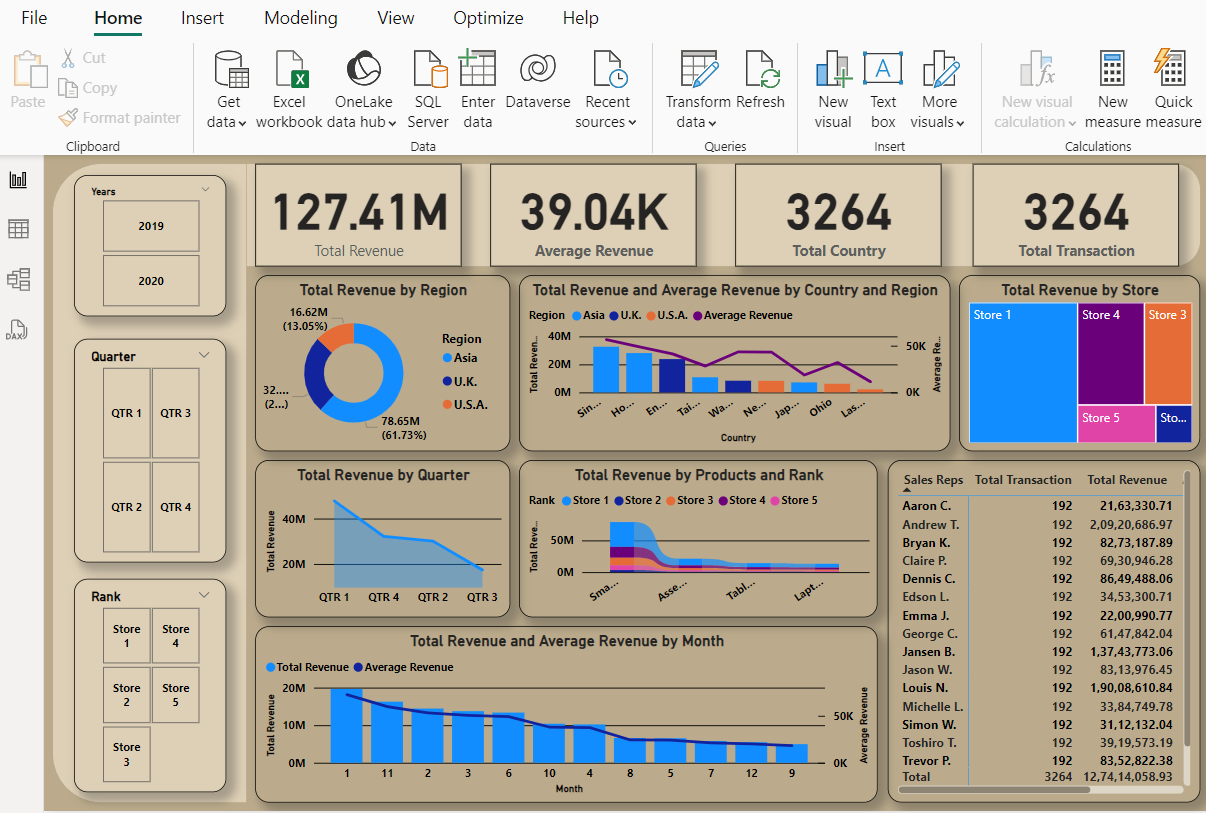

This screenshot's page, from the dashboard's own definition file:
{"tool":"powerbi","page":{"name":"Page 1","canvas":[1280,720],"ordinal":0},"visuals":[{"type":"shape","box":[9.6,9.6,212.7,701.2],"z":0},{"type":"shape","box":[222.3,9.6,1047,112.5],"z":1000},{"type":"card","fields":{"Values":["Measures (2).Total Revenue"]},"box":[231.9,9.6,226.4,112.5],"z":2000},{"type":"card","fields":{"Values":["Measures (2).Average Revenue"]},"box":[489.9,9.6,226.4,112.5],"z":3000},{"type":"card","fields":{"Values":["Measures (2).Total Country"]},"box":[758.8,9.6,226.4,112.5],"z":4000},{"type":"card","fields":{"Values":["Measures (2).Total Transaction"]},"box":[1019.6,9.6,226.4,112.5],"z":5000},{"type":"donutChart","fields":{"Y":["Measures (2).Total Revenue"],"Category":["Sheet1.Region"]},"box":[231.9,131.7,279.9,193.5],"z":6000},{"type":"lineStackedColumnComboChart","fields":{"Category":["Sheet1.Country"],"Y":["Measures (2).Total Revenue"],"Y2":["Measures (2).Average Revenue"],"Series":["Sheet1.Region"]},"box":[521.4,131.7,473.4,193.5],"z":7000},{"type":"treemap","title":"Total Revenue by Store","fields":{"Values":["Measures (2).Total Revenue"],"Group":["Sheet1.Rank"]},"box":[1004.5,131.7,264.8,193.5],"z":8000},{"type":"areaChart","fields":{"Category":["Sheet1.Quarter"],"Y":["Measures (2).Total Revenue"]},"box":[231.9,334.8,279.9,172.9],"z":9000},{"type":"ribbonChart","fields":{"Category":["Sheet1.Products"],"Y":["Measures (2).Total Revenue"],"Series":["Sheet1.Rank"]},"box":[521.4,334.8,393.8,172.9],"z":10000},{"type":"pivotTable","fields":{"Rows":["Sheet1.Sales Reps"],"Values":["Measures (2).Total Transaction","Measures (2).Total Revenue","Measures (2).Average Revenue"]},"box":[926.2,334.8,343.1,376],"z":11000},{"type":"lineStackedColumnComboChart","fields":{"Y":["Measures (2).Total Revenue"],"Y2":["Measures (2).Average Revenue"],"Category":["Sheet1.Month"]},"box":[231.9,517.3,683.4,193.5],"z":12000},{"type":"slicer","fields":{"Values":["Sheet1.Years"]},"box":[32.9,22,167.4,155.1],"z":13000},{"type":"slicer","fields":{"Values":["Sheet1.Quarter"]},"box":[32.9,201.7,167.4,245.6],"z":14000},{"type":"slicer","fields":{"Values":["Sheet1.Rank"]},"box":[32.9,465.2,167.4,234.6],"z":15000}]}

Visuals, with their boxes in screenshot pixels (x1, y1, x2, y2):
shape: [x1=47, y1=153, x2=244, y2=805]
shape: [x1=244, y1=153, x2=1205, y2=258]
card - Measures (2).Total Revenue: [x1=253, y1=153, x2=464, y2=258]
card - Measures (2).Average Revenue: [x1=493, y1=153, x2=703, y2=258]
card - Measures (2).Total Country: [x1=743, y1=153, x2=953, y2=258]
card - Measures (2).Total Transaction: [x1=985, y1=153, x2=1195, y2=258]
donutChart - Measures (2).Total Revenue x Sheet1.Region: [x1=253, y1=267, x2=513, y2=447]
lineStackedColumnComboChart - Sheet1.Country x Measures (2).Total Revenue: [x1=522, y1=267, x2=962, y2=447]
"Total Revenue by Store" treemap: [x1=971, y1=267, x2=1205, y2=447]
areaChart - Sheet1.Quarter x Measures (2).Total Revenue: [x1=253, y1=456, x2=513, y2=616]
ribbonChart - Sheet1.Products x Measures (2).Total Revenue: [x1=522, y1=456, x2=888, y2=616]
pivotTable - Sheet1.Sales Reps x Measures (2).Total Transaction: [x1=898, y1=456, x2=1205, y2=805]
lineStackedColumnComboChart - Measures (2).Total Revenue x Measures (2).Average Revenue: [x1=253, y1=625, x2=888, y2=805]
slicer - Sheet1.Years: [x1=68, y1=165, x2=224, y2=309]
slicer - Sheet1.Quarter: [x1=68, y1=332, x2=224, y2=560]
slicer - Sheet1.Rank: [x1=68, y1=577, x2=224, y2=795]
